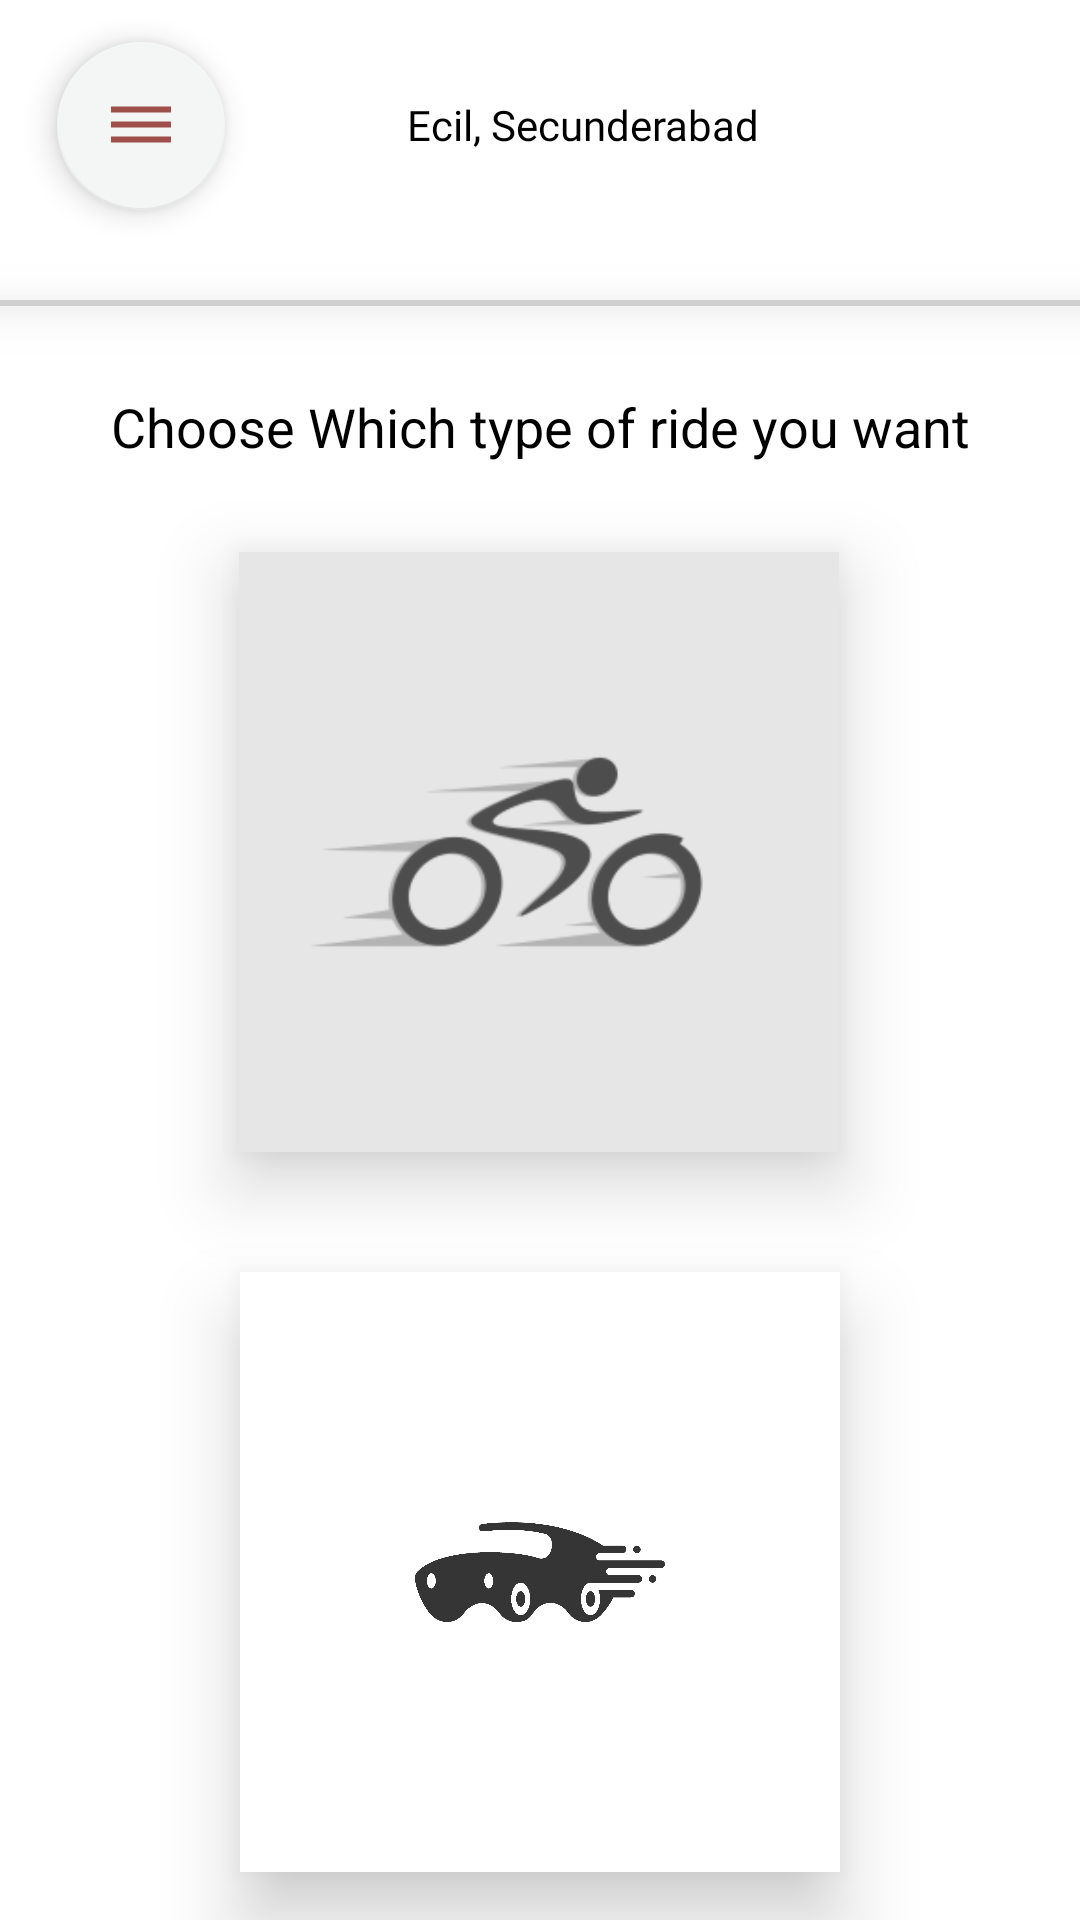

Icons on this 1080w x 1920h Android screen, each with the point to tap as [x,y]:
dehaze: [141,126]
